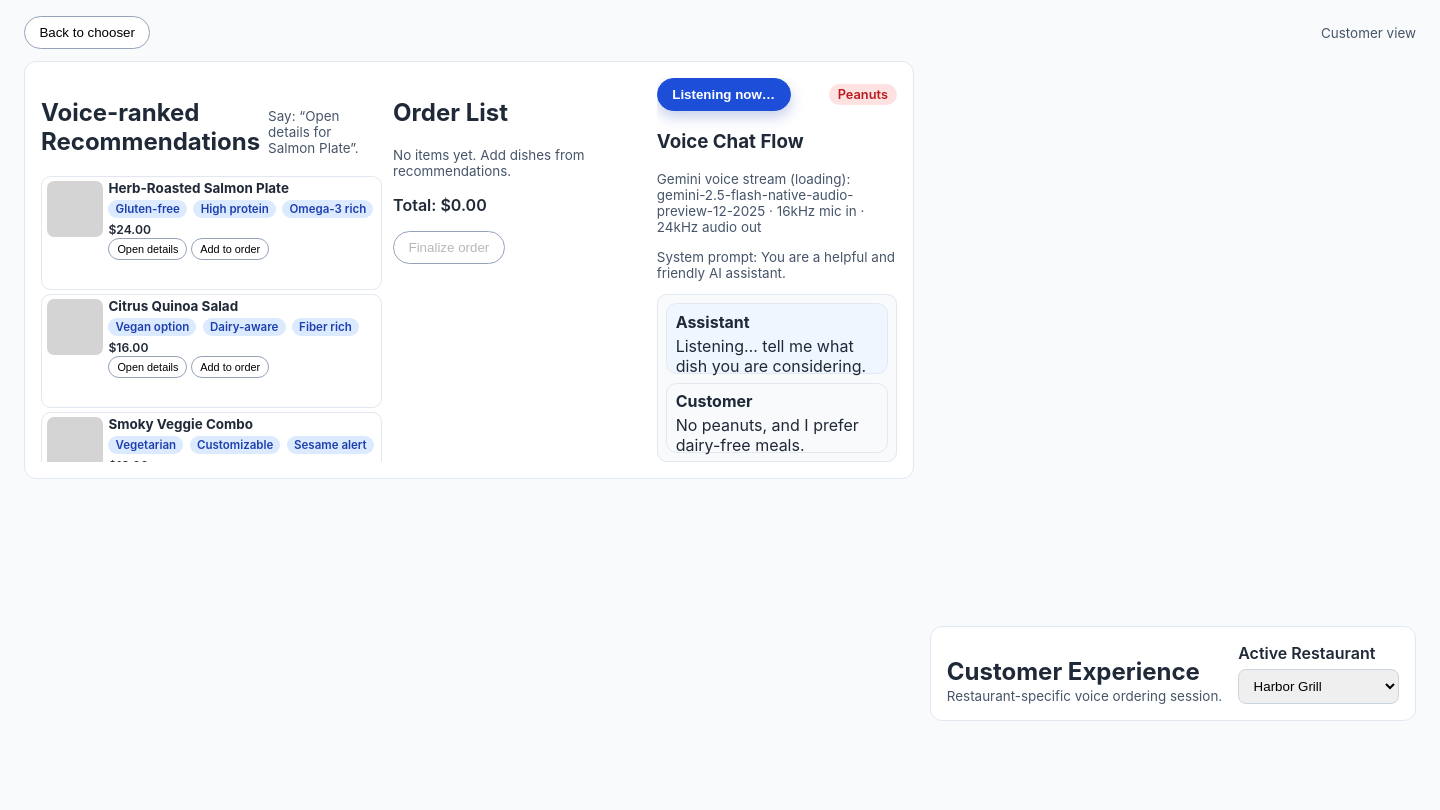
App › keeps always-on voice flow and logs interactions
The width and height of the screenshot is (1440, 810).
Check: the text "Gemini voice stream" is shown, box [657,171,864,235]
Check: the text "Peanuts" is shown, box [829,84,897,105]
Click the button "Add to order" below "$24.00": [230, 249] box [191,238,269,260]
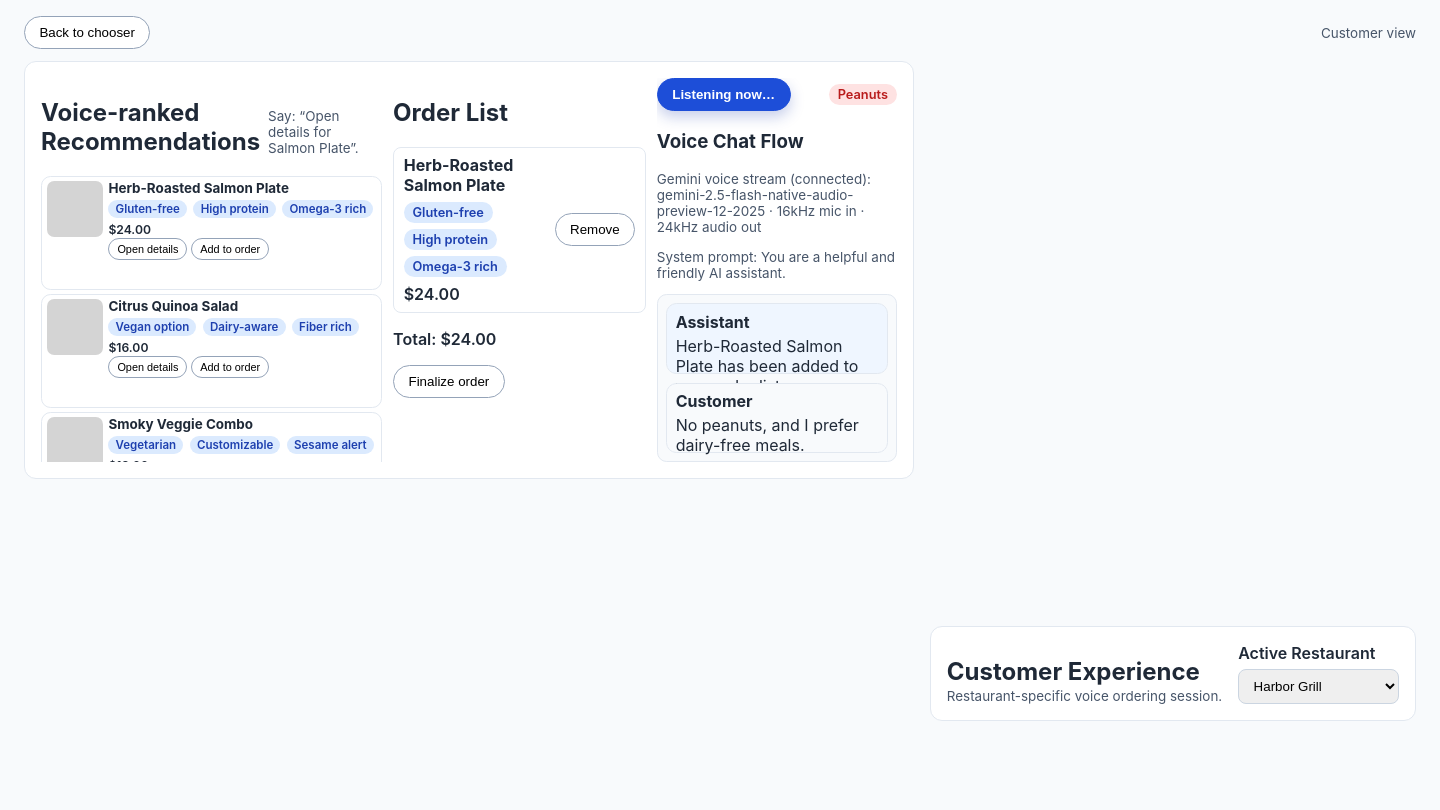
Check: the text "Herb-Roasted Salmon Plate has been added to your order list." is shown, box [676,336,878,396]
